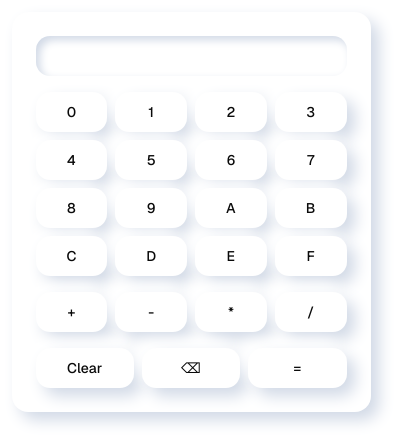
Test: Hex Calculator - Basic UI Tests › removes the last character when pressing backspace
Click the button "A" at (231, 208), box [195,188,267,228]
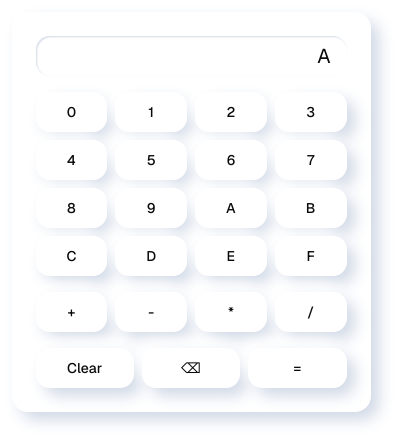
Click the button "+" at (72, 312), box [36,292,108,332]
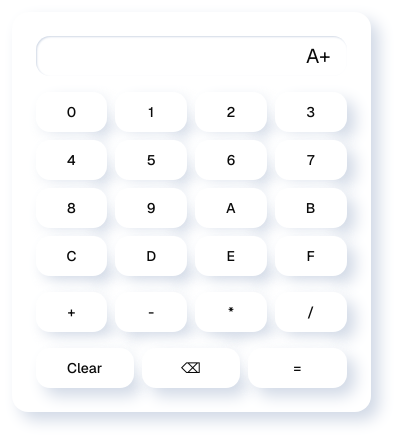
Click the button "1" at (151, 112), box [115,92,187,132]
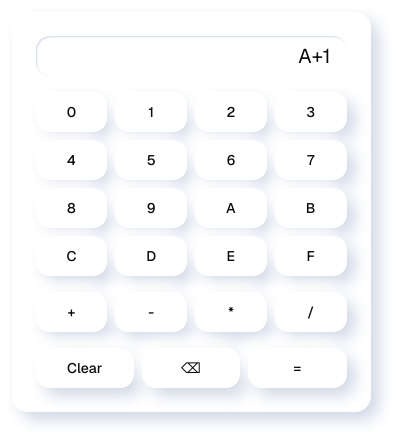
Now the field holds "A+1", box [36,36,347,76]
Click the button "⌫" at (191, 368), box [142,348,240,388]
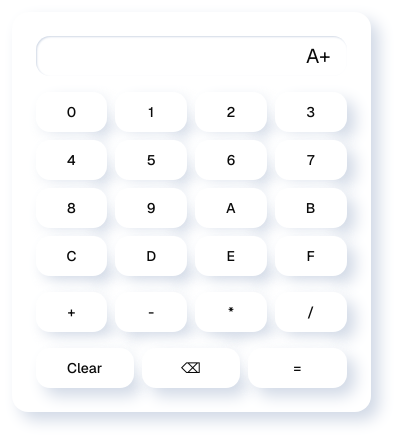
Now the field holds "A+", box [36,36,347,76]
